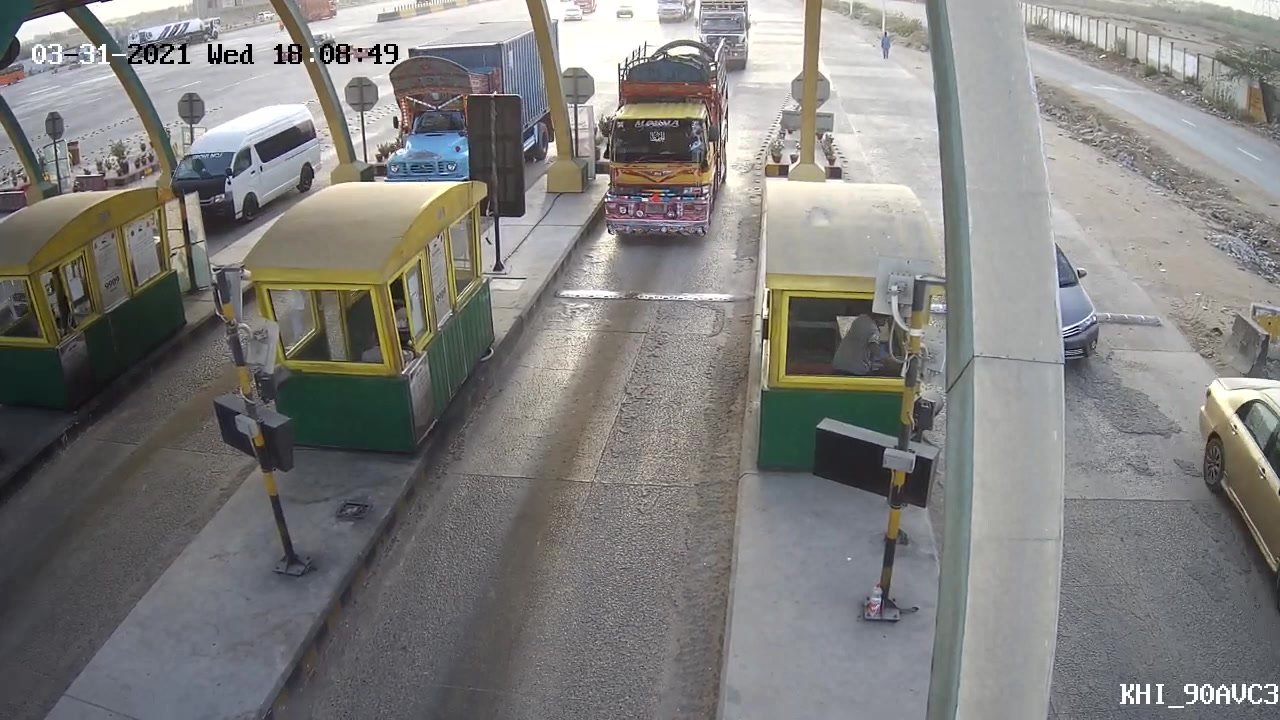F5: (590, 46, 728, 249)
